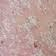plaque psoriasis: (0, 14, 56, 56), (0, 0, 42, 13), (43, 0, 56, 13)
